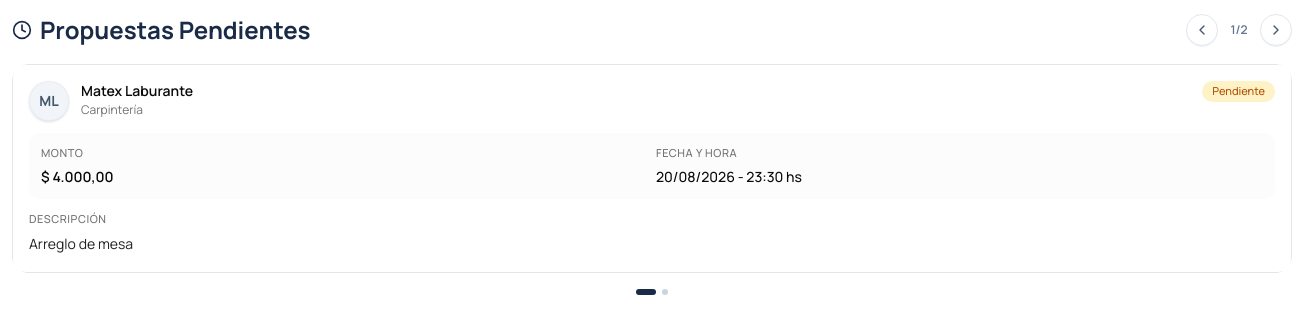
Test case: ProposalCarousel › renders multiple proposals with navigation controls and navigates between slides
The width and height of the screenshot is (1304, 312).
Expected: the text "1/2" is shown, [1230,21,1248,38]
Expected: the heading "Matex Laburante" is shown, [81,84,193,98]
Click the button named "Siguiente propuesta". click: [1276, 30]
box: [1260,14,1292,46]
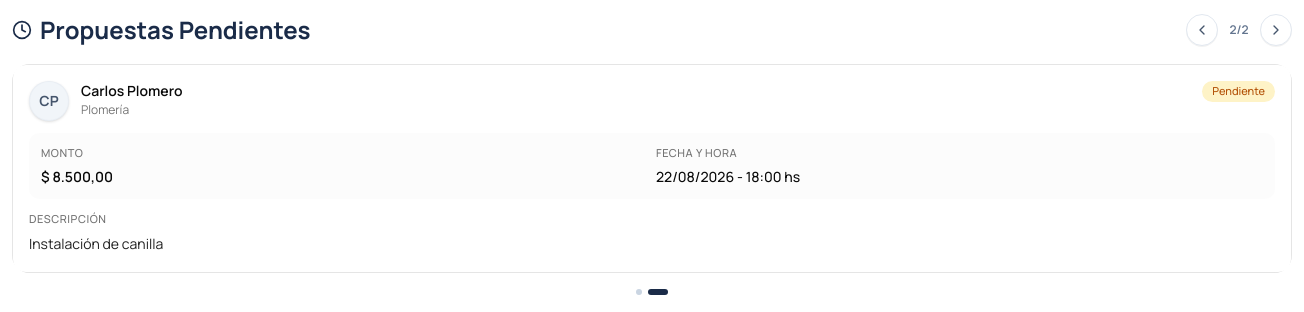
Expected: the text "2/2" is shown, [1229,21,1248,38]
Click the button named "Propuesta anterior". click: [1202, 30]
box: [1186,14,1218,46]
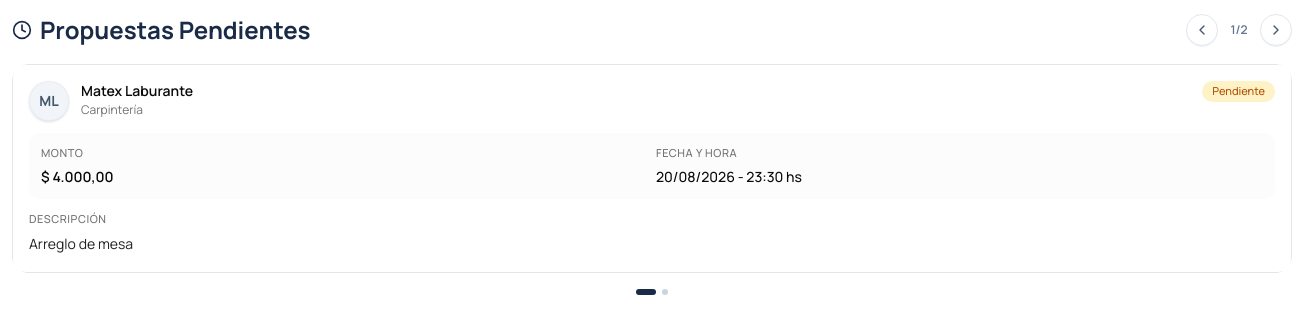
Expected: the text "1/2" is shown, [1230,21,1248,38]
